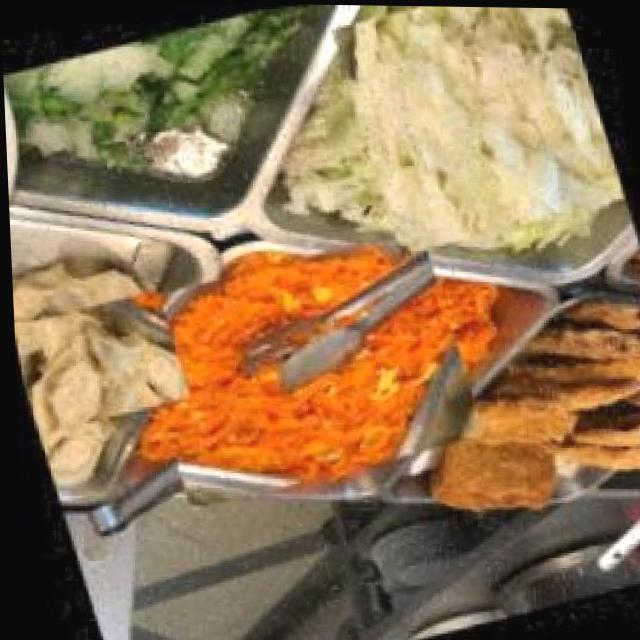carrot_eggs: (116, 219, 489, 518)
chinese_cabbage: (324, 4, 626, 259)
fried_dumplings: (9, 268, 174, 460)
